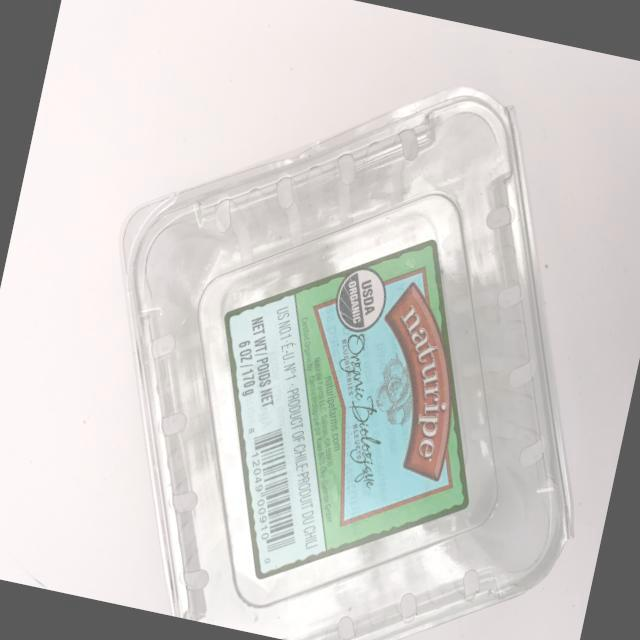plastic: (27, 11, 640, 640)
